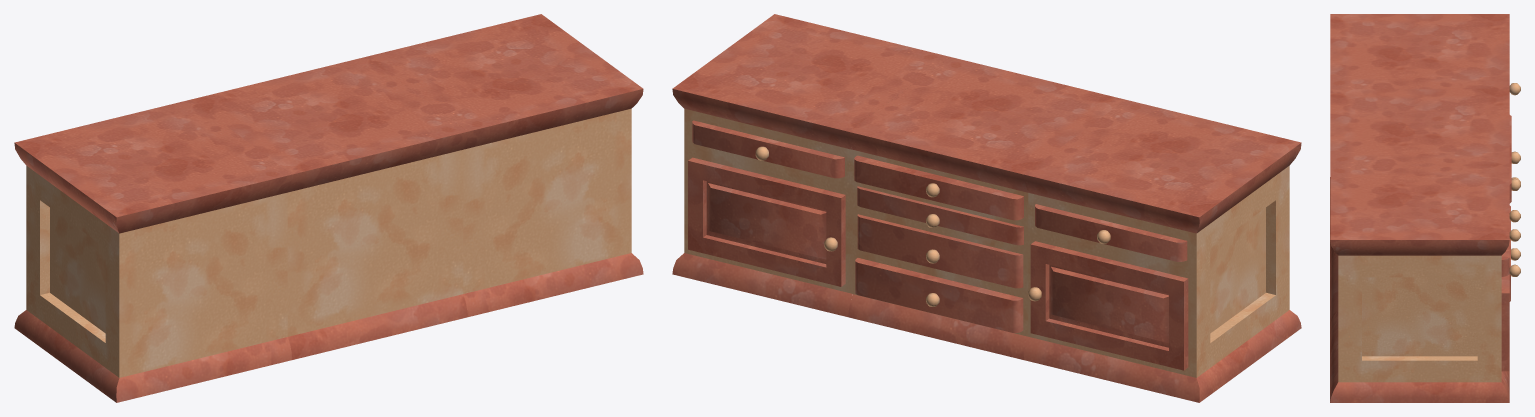
Rendered from SM_Long_Chest.fbx.
3 views of the same model, side by side, from view 1: azimuth 30°, elevation 25°; view 2: azimuth 150°, elevation 25°; view 3: azimuth 270°, elevation 25° (orthographic). The views are drawn at different scales.
Visible parts, largest first — view 1: SM_Long_Chest-03, SM_Long_Chest-02, SM_Long_Chest; view 2: SM_Long_Chest-03, SM_Long_Chest-02, SM_Long_Chest; view 3: SM_Long_Chest, SM_Long_Chest-02, SM_Long_Chest-03.
Boxes of the visible parts, x1=… form: SM_Long_Chest-03: x1=14, y1=100, x2=292, y2=402; SM_Long_Chest-02: x1=190, y1=57, x2=467, y2=359; SM_Long_Chest: x1=366, y1=14, x2=643, y2=316; SM_Long_Chest-03: x1=1023, y1=100, x2=1301, y2=402; SM_Long_Chest-02: x1=848, y1=57, x2=1125, y2=359; SM_Long_Chest: x1=672, y1=14, x2=949, y2=316; SM_Long_Chest: x1=1330, y1=164, x2=1520, y2=402; SM_Long_Chest-02: x1=1330, y1=89, x2=1520, y2=327; SM_Long_Chest-03: x1=1330, y1=14, x2=1520, y2=251.
Bounding box in the file's own units: 298 × 100 × 106.
